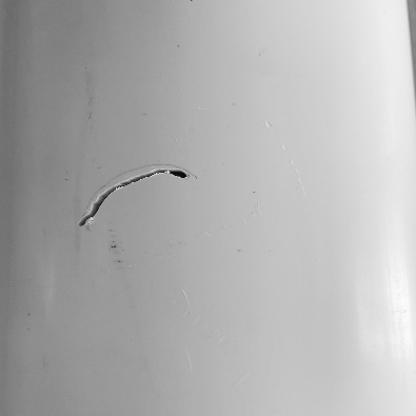fengxi: (76, 166, 191, 229)
